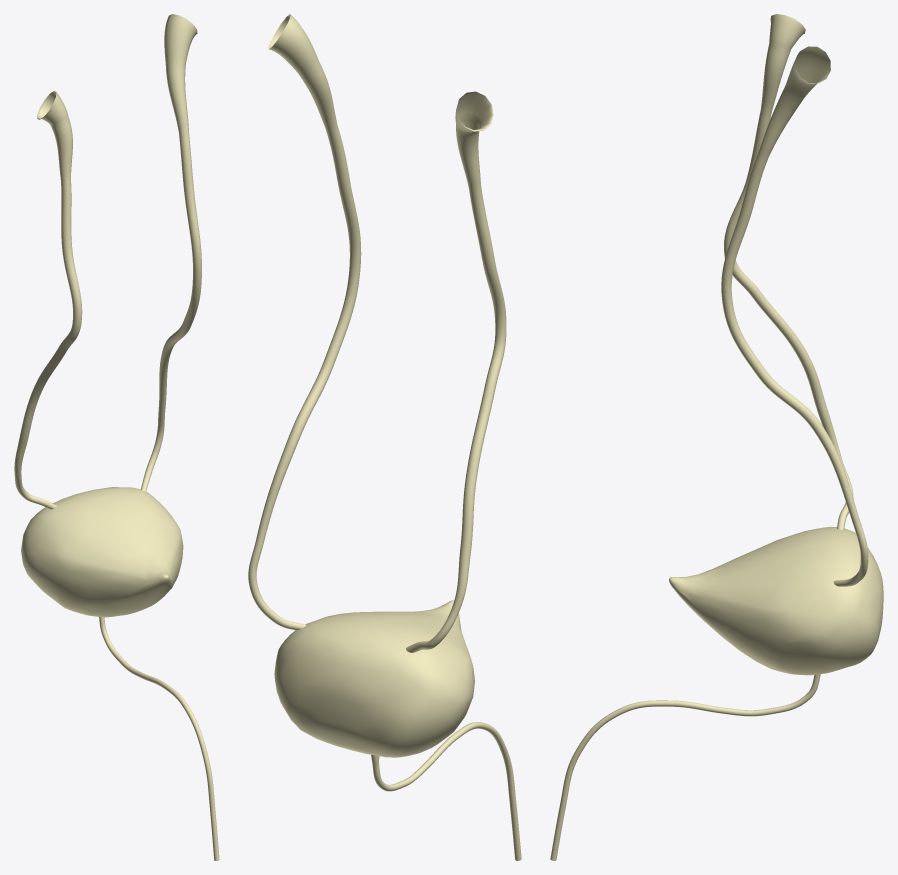
The model's file is vie-urinarie-test.glb.
The picture shows the model from 3 angles, left to right: view 1: azimuth 30°, elevation 25°; view 2: azimuth 150°, elevation 25°; view 3: azimuth 270°, elevation 25°; orthographic projection. The views are drawn at different scales.
Parts seen in each view (by area): view 1: Urinary bladder, Ureter.l, Ureter.r, Urethra; view 2: Urinary bladder, Ureter.l, Ureter.r, Urethra; view 3: Urinary bladder, Ureter.l, Ureter.r, Urethra.
Part boxes in pixels (x1,y1,x2,y2): Urinary bladder: [21, 487, 183, 617]; Ureter.l: [141, 14, 201, 491]; Ureter.r: [14, 91, 82, 509]; Urethra: [99, 617, 219, 860]; Urinary bladder: [274, 600, 474, 757]; Ureter.l: [248, 14, 361, 630]; Ureter.r: [406, 91, 506, 652]; Urethra: [371, 722, 521, 860]; Urinary bladder: [669, 527, 883, 675]; Ureter.l: [721, 46, 868, 586]; Ureter.r: [724, 14, 853, 529]; Urethra: [550, 674, 820, 860].
Size of the model in its own units: 0.0864 by 0.3656 by 0.1293.
